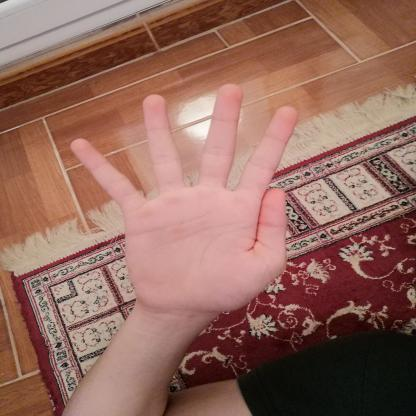SHEEN: (55, 70, 310, 324)
